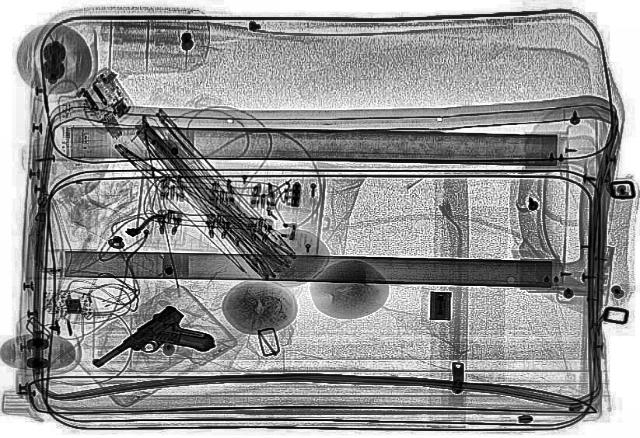Gun: (84, 303, 226, 393)
